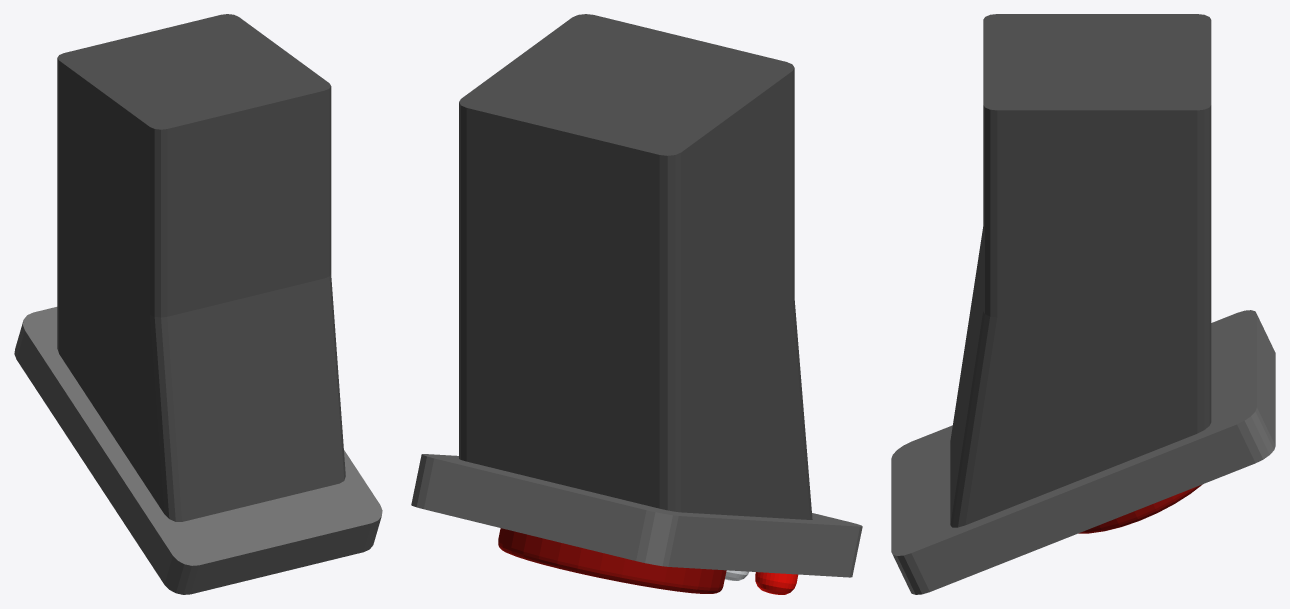
Rendered from FBX_INT_BedienfeldRED.fbx.
3 renders of one model, left to right at view 1: azimuth 30°, elevation 25°; view 2: azimuth 150°, elevation 25°; view 3: azimuth 270°, elevation 25°, orthographic. The views are drawn at different scales.
Visible parts, largest first — view 1: Cube.002, Hauptkörper.002; view 2: Cube.002, Hauptkörper.002, Button.002, rot.002; view 3: Cube.002, Hauptkörper.002, Button.002.
Part boxes in pixels (x1=…): Cube.002: x1=57, y1=14, x2=345, y2=521; Hauptkörper.002: x1=14, y1=307, x2=382, y2=594; Cube.002: x1=459, y1=14, x2=812, y2=519; Hauptkörper.002: x1=411, y1=454, x2=862, y2=577; Button.002: x1=498, y1=528, x2=726, y2=593; rot.002: x1=755, y1=572, x2=798, y2=594; Cube.002: x1=950, y1=14, x2=1211, y2=527; Hauptkörper.002: x1=891, y1=310, x2=1275, y2=594; Button.002: x1=1078, y1=484, x2=1202, y2=533.
Size of the model in its own units: 132 by 267 by 193.
